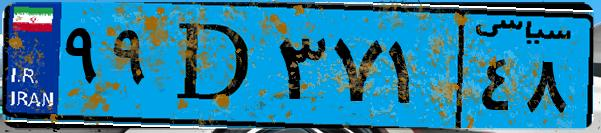1: (385, 28, 445, 110)
3: (270, 28, 330, 110)
4: (475, 38, 525, 113)
7: (330, 28, 385, 110)
8: (525, 38, 570, 115)
9: (57, 26, 110, 100), (110, 28, 158, 98)
D: (158, 12, 270, 120)
